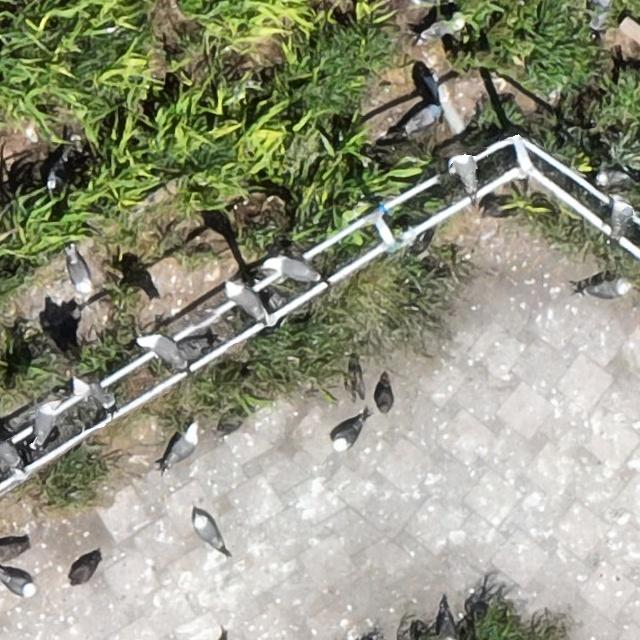umineko: (137, 332, 188, 372), (266, 256, 324, 284), (74, 374, 115, 410), (584, 272, 634, 298), (33, 400, 61, 446), (607, 196, 633, 244), (454, 151, 478, 199), (226, 286, 263, 313), (170, 428, 196, 462), (405, 107, 439, 131), (194, 514, 218, 546), (68, 255, 88, 292), (422, 19, 460, 37), (4, 573, 33, 596), (334, 424, 358, 448), (597, 168, 630, 184)
